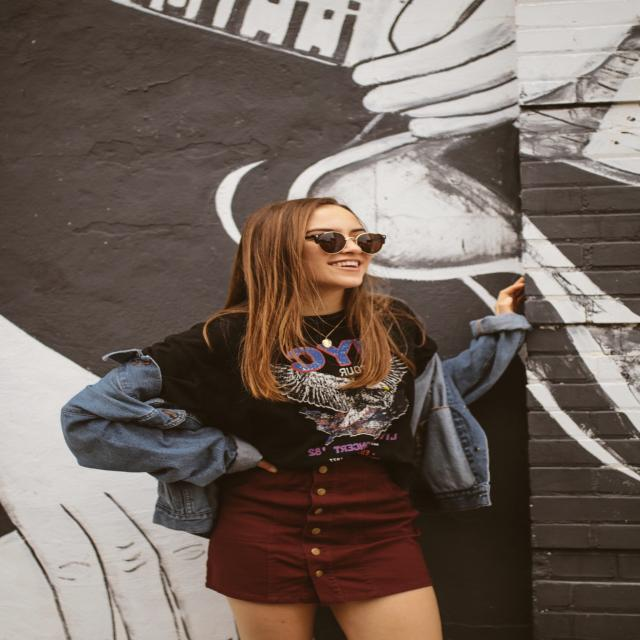adult: (57, 194, 539, 640)
